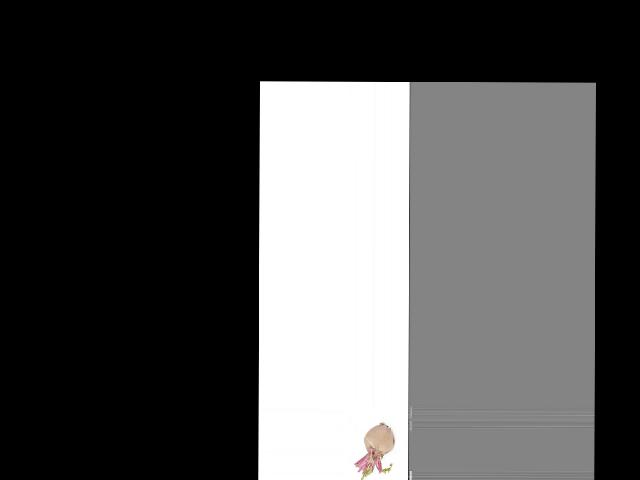beet: (354, 421, 394, 480)
